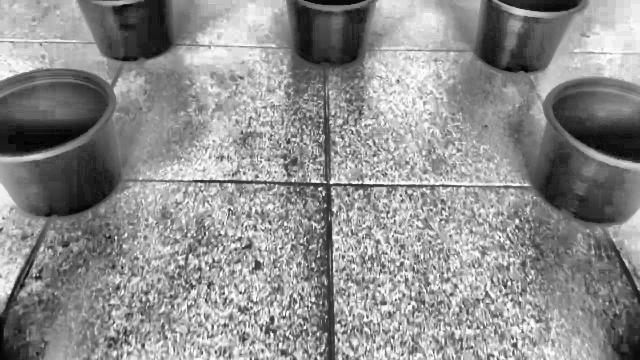pot: (0, 68, 123, 220), (532, 78, 640, 226)
